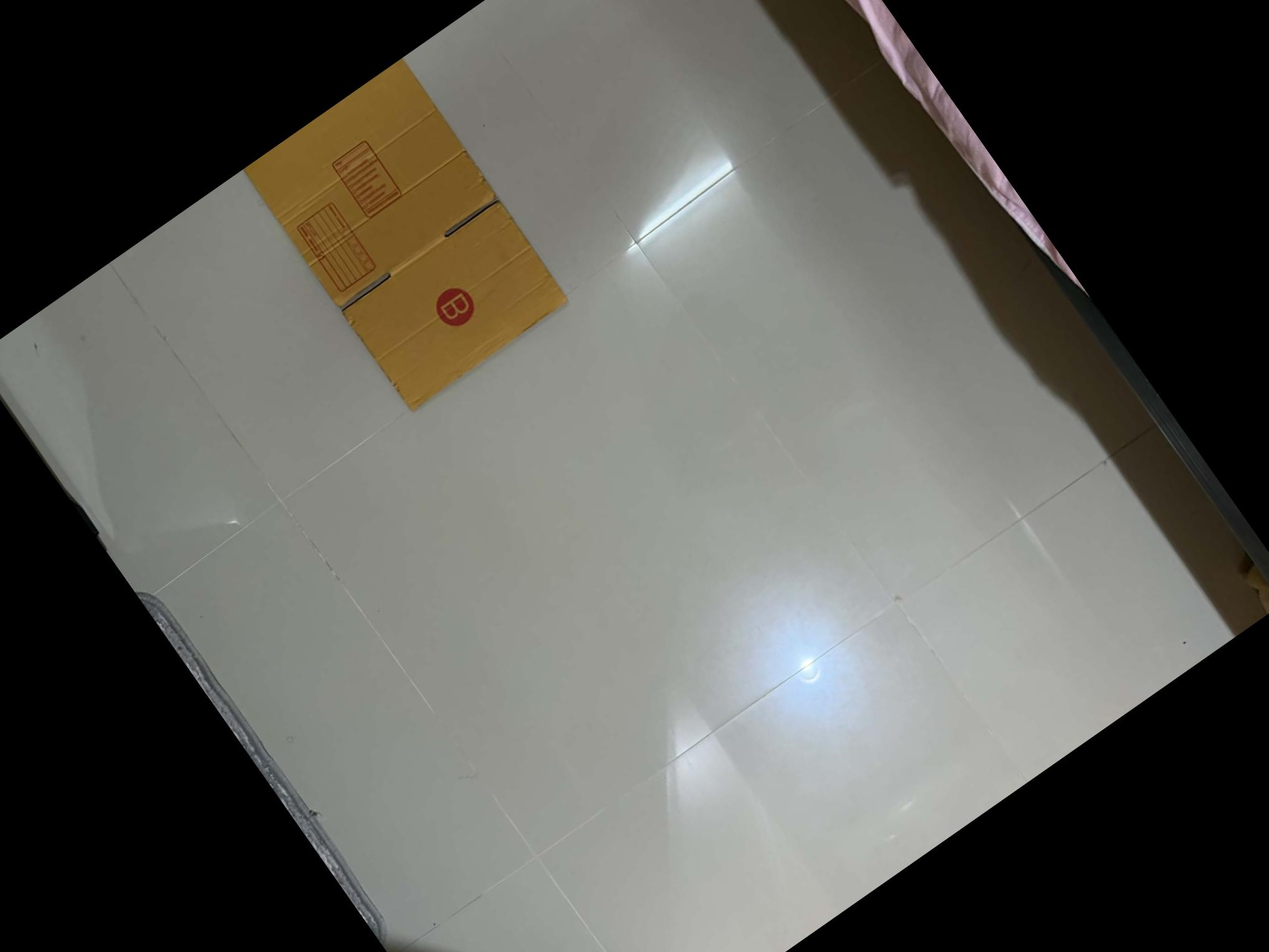box: (291, 198, 382, 295), (324, 133, 408, 223), (431, 278, 483, 329)
class0: (236, 56, 577, 419)
